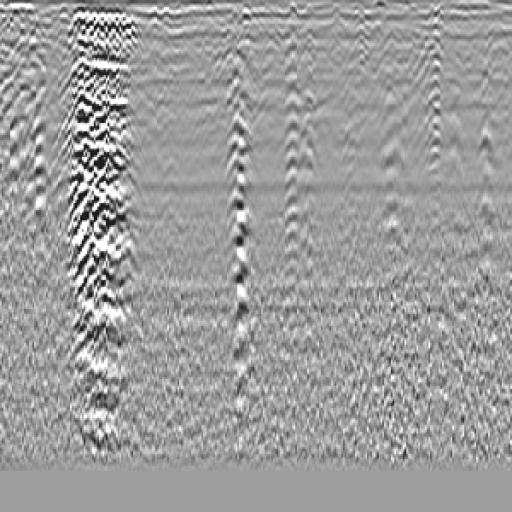non-metallic: (67, 6, 136, 439), (269, 50, 355, 293), (226, 45, 258, 429)
